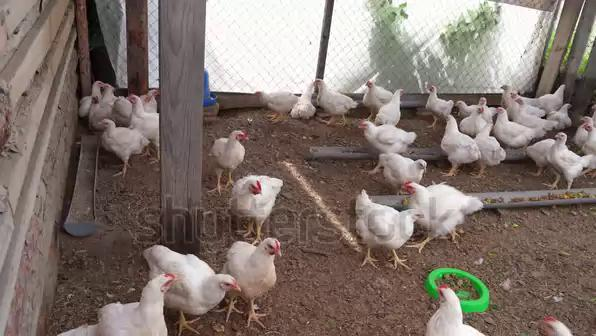Pollos: (141, 247, 241, 311), (95, 269, 174, 336), (356, 199, 424, 250), (423, 282, 484, 336), (440, 111, 480, 175), (548, 129, 590, 188), (227, 175, 281, 220), (99, 116, 150, 161), (402, 178, 486, 205), (309, 74, 357, 116), (229, 235, 283, 272), (359, 119, 417, 150), (494, 107, 537, 145), (213, 126, 249, 171), (379, 154, 427, 184), (252, 86, 300, 116), (426, 83, 454, 114), (363, 77, 390, 107), (466, 105, 494, 133), (548, 101, 574, 128)
